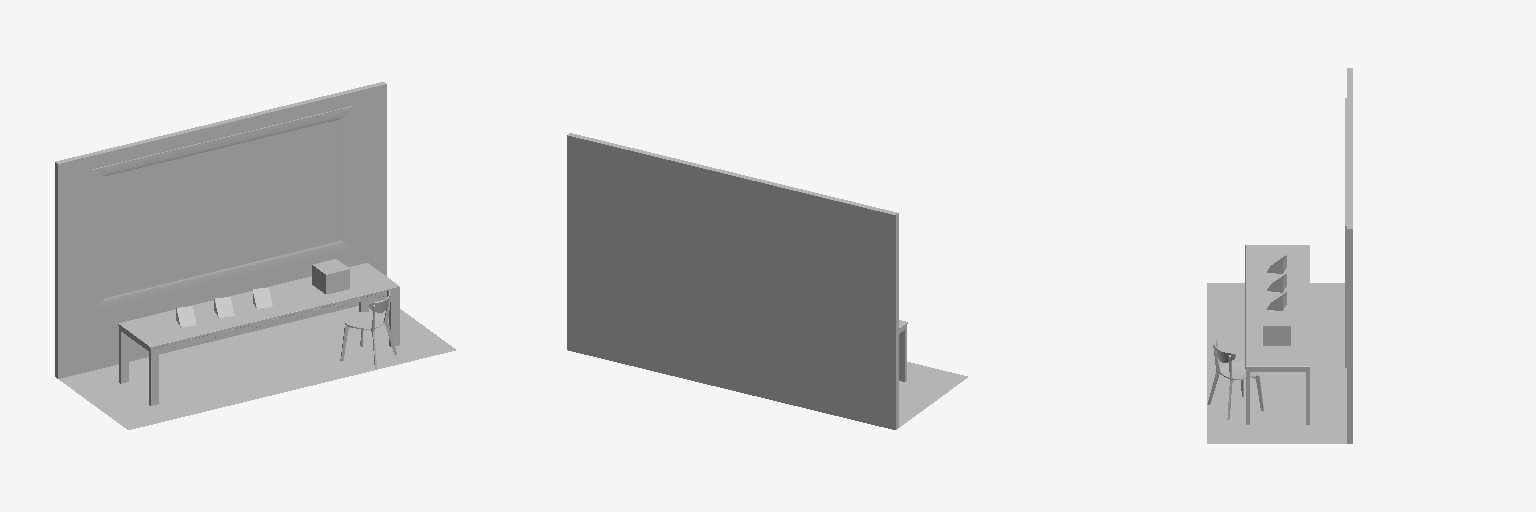
File: escena.obj
3 views of the same model, side by side, from view 1: azimuth 30°, elevation 25°; view 2: azimuth 150°, elevation 25°; view 3: azimuth 270°, elevation 25° (orthographic).
Visible parts, largest first — view 1: Picture_10, wall_1_4, ground_1, Frame_8_14, Table_17, Feet_16, Frame_15, wall_1_7, wall_1_6; view 2: wall_1_5, ground_1, wall_1_7, wall_1_6; view 3: ground_1, Table_17, wall_1_4, wall_1_5, right_25, Frame_13.
Part boxes in pixels (x1,y1,x2,y2): Picture_10: (105, 119, 340, 297); wall_1_4: (57, 84, 386, 378); ground_1: (59, 300, 455, 429); Frame_8_14: (92, 106, 353, 311); Table_17: (118, 263, 399, 348); Feet_16: (119, 289, 399, 405); Frame_15: (121, 291, 390, 350); wall_1_7: (56, 82, 384, 162); wall_1_6: (57, 83, 385, 163); wall_1_5: (567, 135, 896, 429); ground_1: (899, 362, 967, 427); wall_1_7: (568, 134, 896, 214); wall_1_6: (569, 133, 897, 213); ground_1: (1207, 283, 1346, 443); Table_17: (1245, 245, 1309, 368); wall_1_4: (1347, 229, 1349, 443); wall_1_5: (1350, 229, 1352, 443); right_25: (1263, 326, 1290, 345); Frame_13: (1345, 98, 1346, 367).
Bounding box in the file's own units: 432 × 270 × 167.